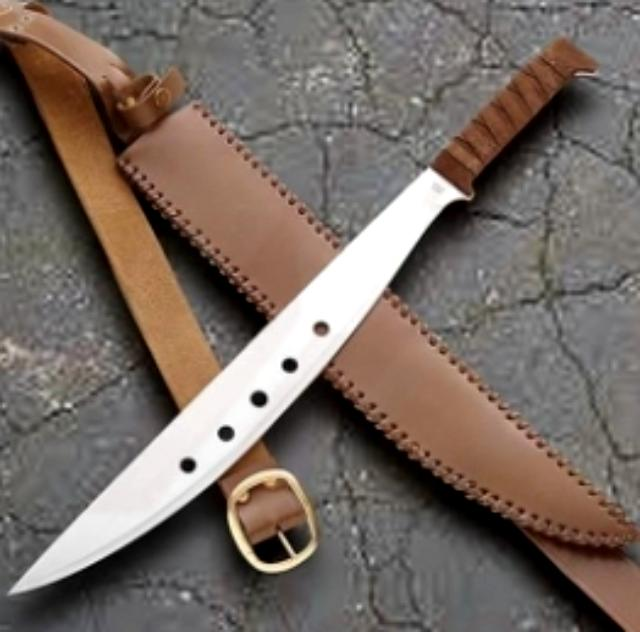long knife: (8, 30, 612, 606)
